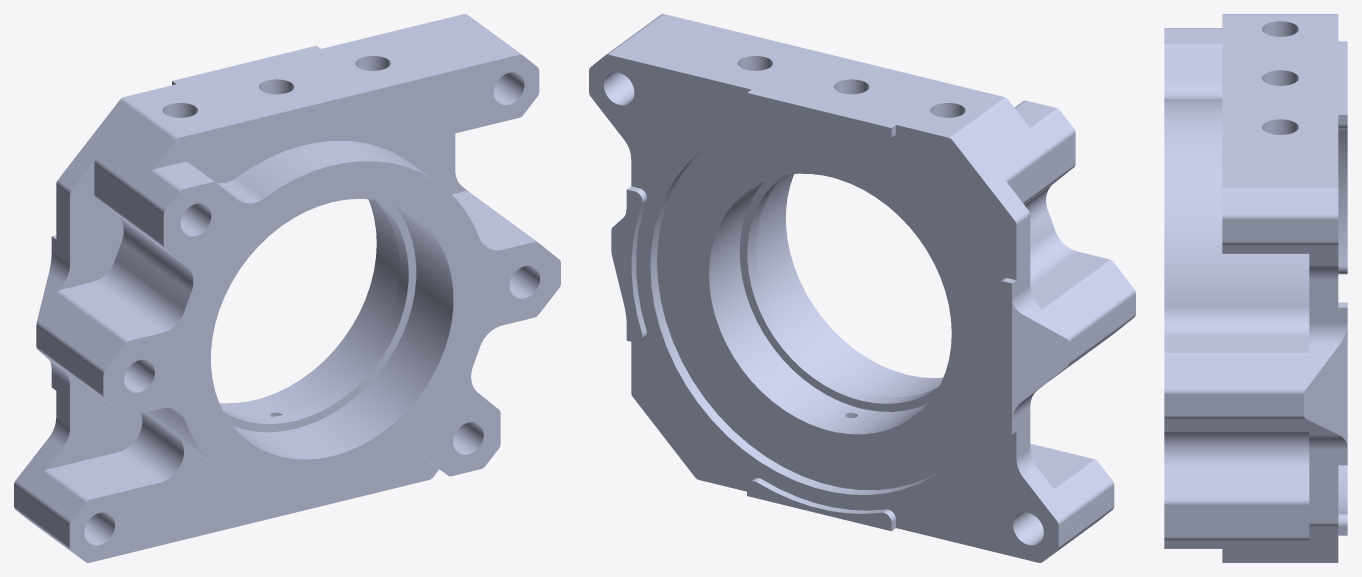
File: REV_21_2100_P05_1_solid1.obj
3 renders of one model, left to right at view 1: azimuth 30°, elevation 25°; view 2: azimuth 150°, elevation 25°; view 3: azimuth 270°, elevation 25°, orthographic. The views are drawn at different scales.
Parts seen in each view (by area): view 1: mesh26260, mesh26380, mesh26424, mesh26377, mesh26367, mesh26388, mesh26321, mesh26319, mesh26354, mesh26309, mesh26279, mesh26356 (+25 smaller); view 2: mesh26417, mesh26397, mesh26424, mesh26388, mesh26367, mesh26321, mesh26284, mesh26279, mesh26386, mesh26399, mesh26385, mesh26357 (+18 smaller); view 3: mesh26424, mesh26309, mesh26307, mesh26298, mesh26295, mesh26294, mesh26305, mesh26314, mesh26302, mesh26308, mesh26342, mesh26340 (+27 smaller).
Boxes of the visible parts, x1=… form: mesh26260: x1=103, y1=161, x2=560, y2=497; mesh26380: x1=152, y1=54, x2=539, y2=182; mesh26424: x1=124, y1=14, x2=518, y2=137; mesh26377: x1=69, y1=439, x2=439, y2=562; mesh26367: x1=295, y1=205, x2=453, y2=455; mesh26388: x1=256, y1=199, x2=399, y2=414; mesh26321: x1=58, y1=100, x2=178, y2=209; mesh26319: x1=57, y1=160, x2=123, y2=291; mesh26354: x1=45, y1=367, x2=142, y2=470; mesh26309: x1=237, y1=141, x2=431, y2=197; mesh26279: x1=37, y1=274, x2=125, y2=369; mesh26356: x1=48, y1=452, x2=159, y2=499; mesh26417: x1=589, y1=54, x2=1058, y2=562; mesh26397: x1=657, y1=122, x2=997, y2=490; mesh26424: x1=609, y1=14, x2=1003, y2=137; mesh26388: x1=709, y1=182, x2=860, y2=430; mesh26367: x1=756, y1=174, x2=906, y2=395; mesh26321: x1=953, y1=100, x2=1073, y2=220; mesh26284: x1=1012, y1=300, x2=1068, y2=417; mesh26279: x1=1023, y1=262, x2=1133, y2=338; mesh26386: x1=739, y1=175, x2=937, y2=411; mesh26399: x1=650, y1=262, x2=940, y2=494; mesh26385: x1=747, y1=175, x2=869, y2=400; mesh26357: x1=1024, y1=462, x2=1111, y2=520; mesh26424: x1=1222, y1=14, x2=1347, y2=187; mesh26309: x1=1164, y1=100, x2=1309, y2=306; mesh26307: x1=1164, y1=345, x2=1338, y2=388; mesh26298: x1=1164, y1=466, x2=1309, y2=499; mesh26295: x1=1164, y1=434, x2=1309, y2=466; mesh26294: x1=1164, y1=505, x2=1309, y2=536; mesh26305: x1=1164, y1=306, x2=1309, y2=335; mesh26314: x1=1164, y1=526, x2=1338, y2=562; mesh26302: x1=1164, y1=394, x2=1303, y2=415; mesh26308: x1=1304, y1=326, x2=1347, y2=446; mesh26342: x1=1222, y1=191, x2=1338, y2=213; mesh26340: x1=1222, y1=219, x2=1338, y2=241.
Bounding box in the file's own units: 0.0619 × 0.0508 × 0.0201.
